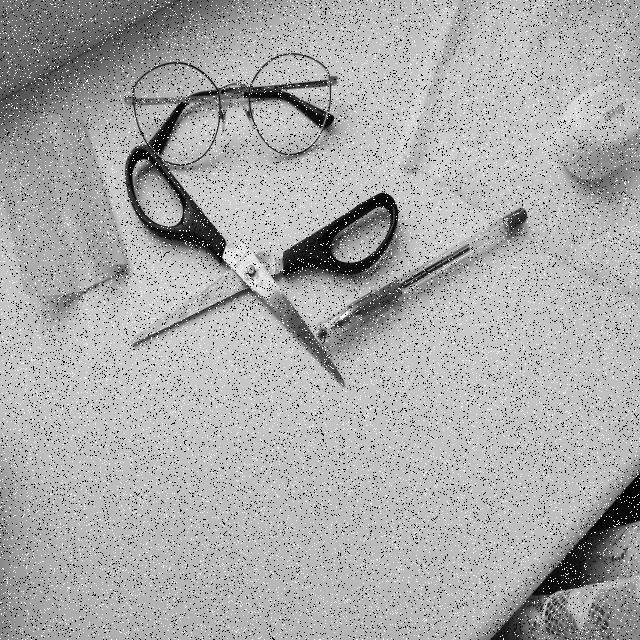scissors: (103, 136, 422, 401)
